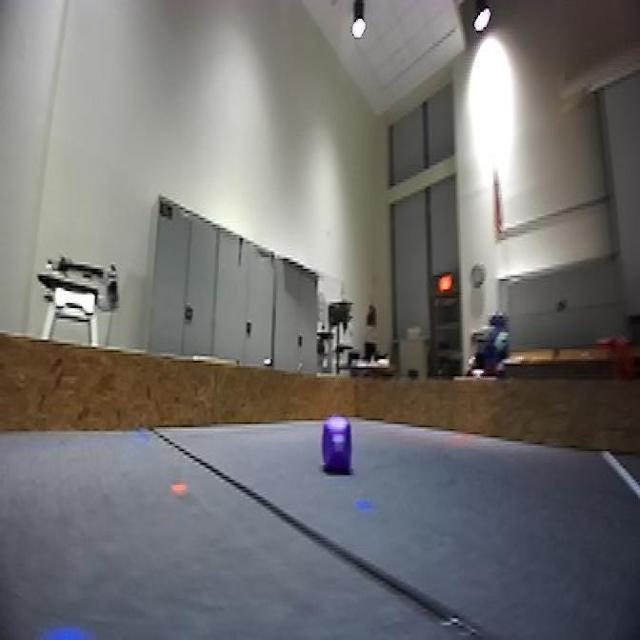frc_cube: (320, 417, 355, 475)
